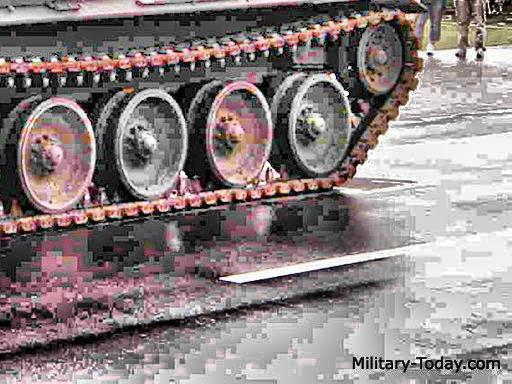tanks: (1, 1, 419, 237)
